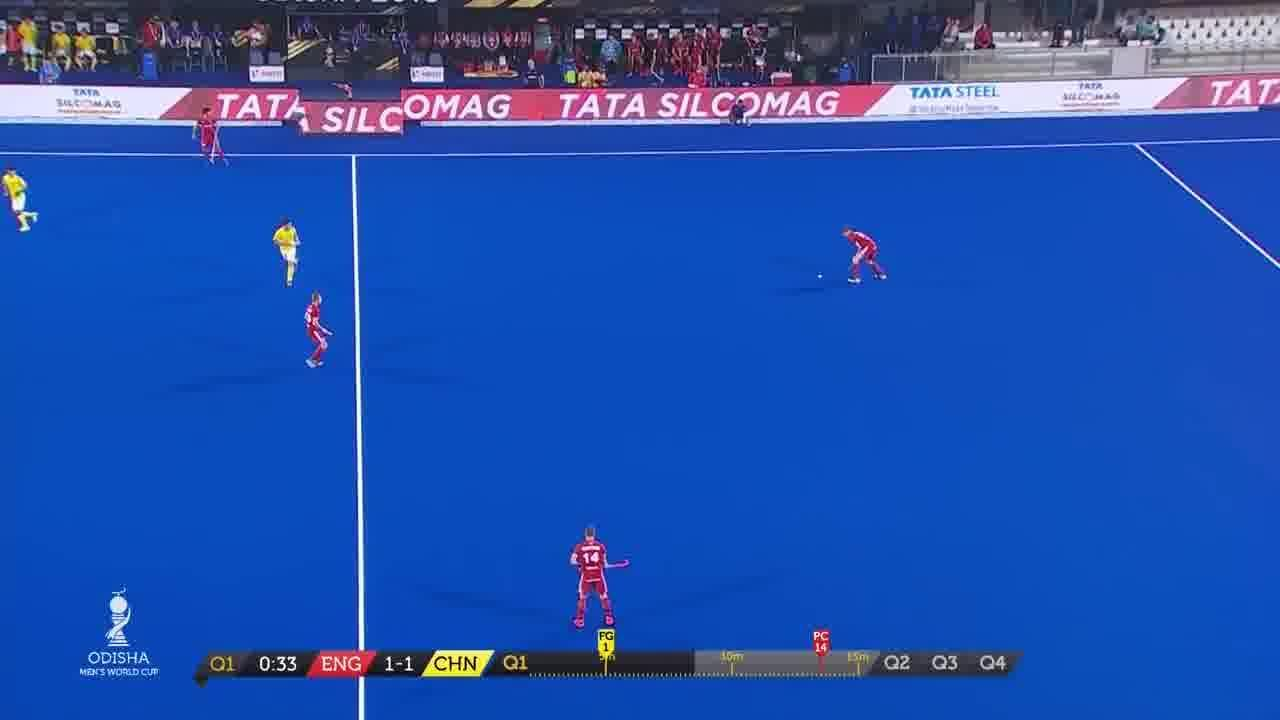ball: (816, 272, 824, 280)
